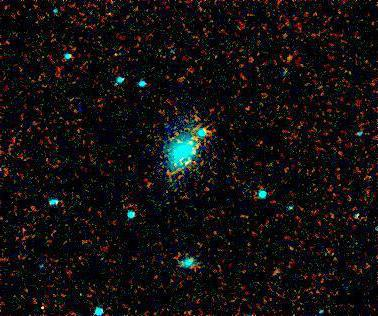star: (171, 146, 201, 176)
